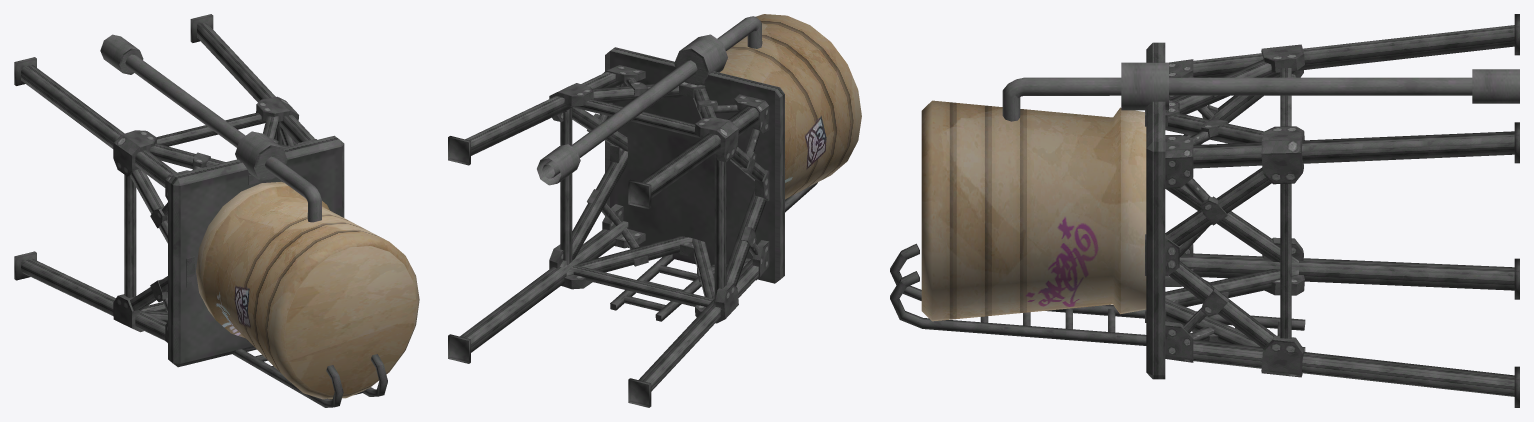
The model's file is tank.obj.
3 views of the same model, side by side, from view 1: azimuth 30°, elevation 25°; view 2: azimuth 150°, elevation 25°; view 3: azimuth 270°, elevation 25° (orthographic). The views are drawn at different scales.
Parts seen in each view (by area): view 1: pCube1328_1__WaterTankMetal, pCylinder182__WaterTankCylinder; view 2: pCube1328_1__WaterTankMetal, pCylinder182__WaterTankCylinder; view 3: pCube1328_1__WaterTankMetal, pCylinder182__WaterTankCylinder.
Boxes of the visible parts, x1,y1,x2,y2 form: pCube1328_1__WaterTankMetal: (14, 14, 387, 407); pCylinder182__WaterTankCylinder: (196, 181, 419, 399); pCube1328_1__WaterTankMetal: (448, 16, 817, 407); pCylinder182__WaterTankCylinder: (720, 14, 861, 199); pCube1328_1__WaterTankMetal: (890, 14, 1519, 407); pCylinder182__WaterTankCylinder: (921, 100, 1146, 321).
Size of the model in its own units: 42.71 by 46.79 by 93.98.
2 materials, 2 textured.
